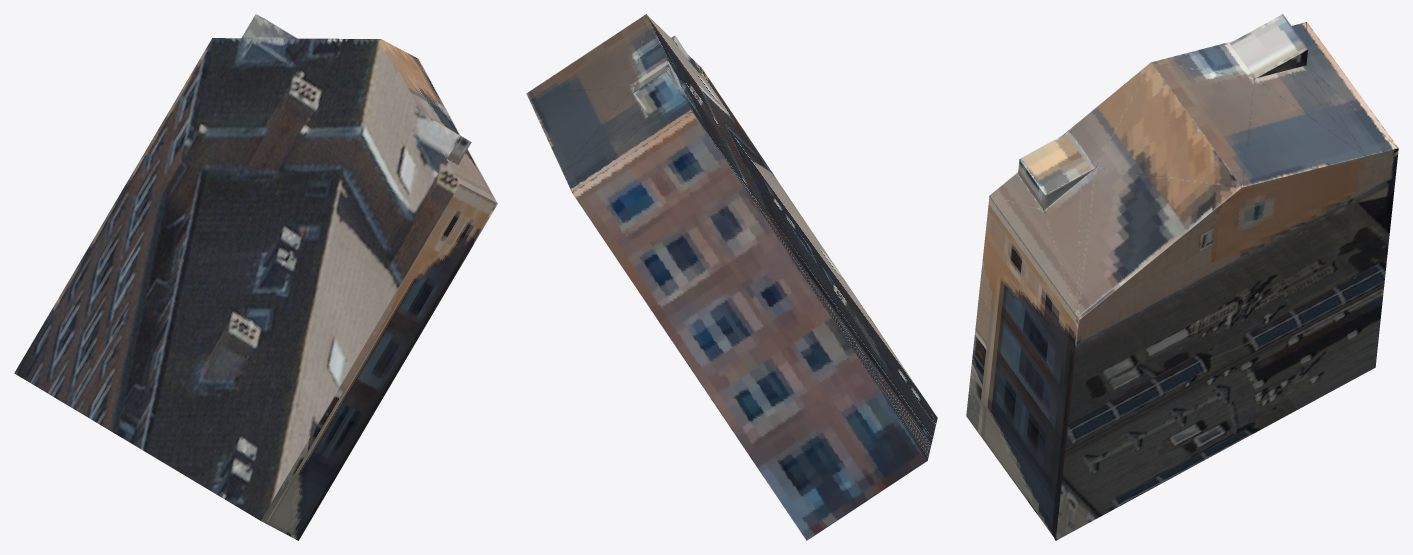
3 renders of one model, left to right at view 1: azimuth 30°, elevation 25°; view 2: azimuth 150°, elevation 25°; view 3: azimuth 270°, elevation 25°, orthographic. The views are drawn at different scales.
Visible parts, largest first — view 1: BAG_0599100000650062 (×5); view 2: BAG_0599100000650062 (×6); view 3: BAG_0599100000650062 (×8).
Boxes of the visible parts, <box> form: BAG_0599100000650062 (×5): <box>14,14,497,540</box>; BAG_0599100000650062 (×6): <box>526,14,937,540</box>; BAG_0599100000650062 (×8): <box>966,14,1398,540</box>.
Bounding box in the file's own units: 18.6 × 19.85 × 13.99.
1 material, 1 textured.
